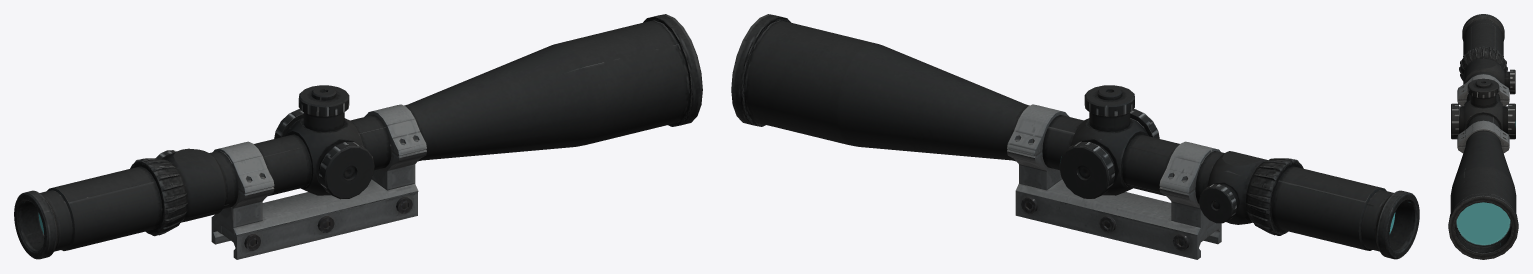
The picture shows the model from 3 angles, left to right: view 1: azimuth 30°, elevation 25°; view 2: azimuth 150°, elevation 25°; view 3: azimuth 270°, elevation 25°; orthographic projection. The views are drawn at different scales.
Visible parts, largest first — view 1: 8x Scope; view 2: 8x Scope; view 3: 8x Scope.
Part boxes in pixels (bbox=[...]): 8x Scope: bbox=[14, 14, 702, 259]; 8x Scope: bbox=[731, 14, 1419, 259]; 8x Scope: bbox=[1448, 14, 1518, 259].
Size of the model in its own units: 243 by 48.99 by 37.06.
Materials: 1 (1 with a texture image).
